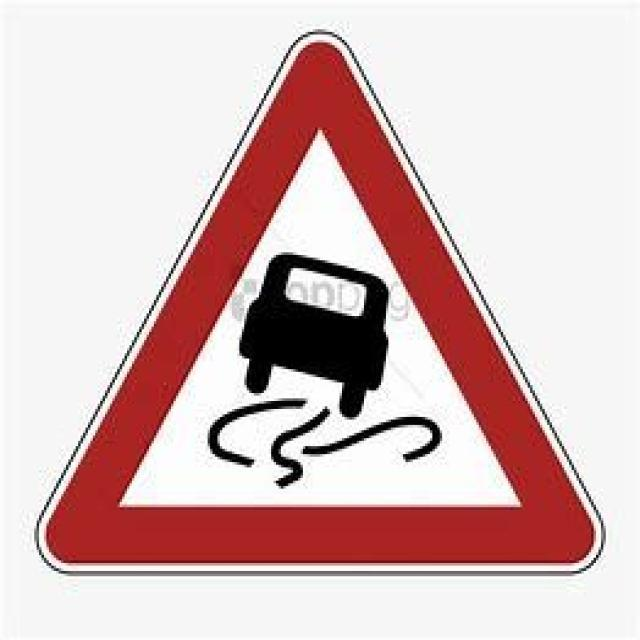slippery road: (41, 40, 594, 572)
